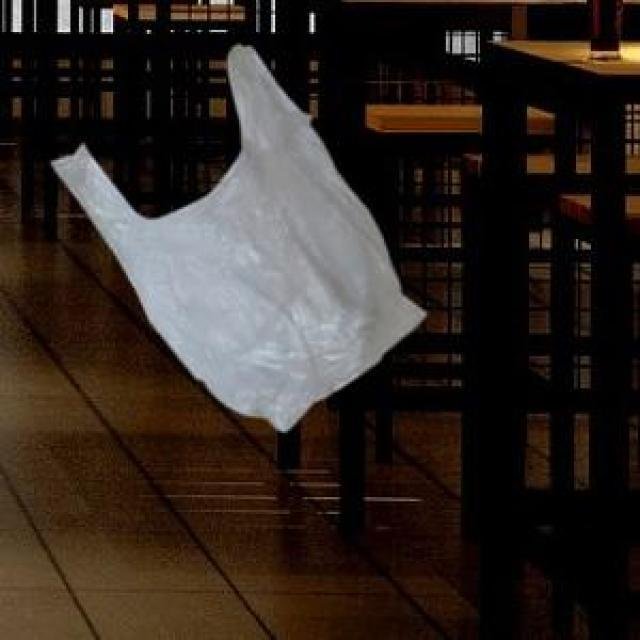waste: (52, 45, 425, 431)
